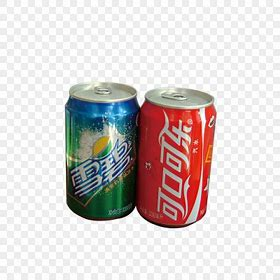Coke: (141, 85, 218, 231)
Sprite: (63, 81, 138, 223)
